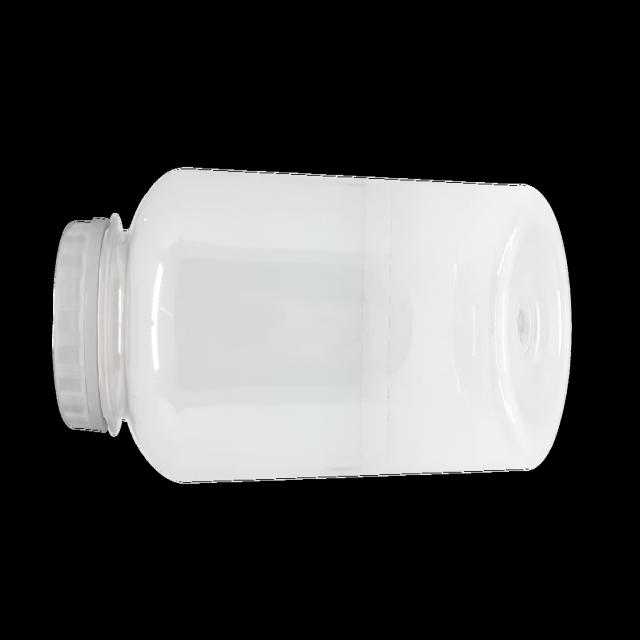bottom: (480, 172, 577, 469)
cap: (35, 185, 125, 486)
